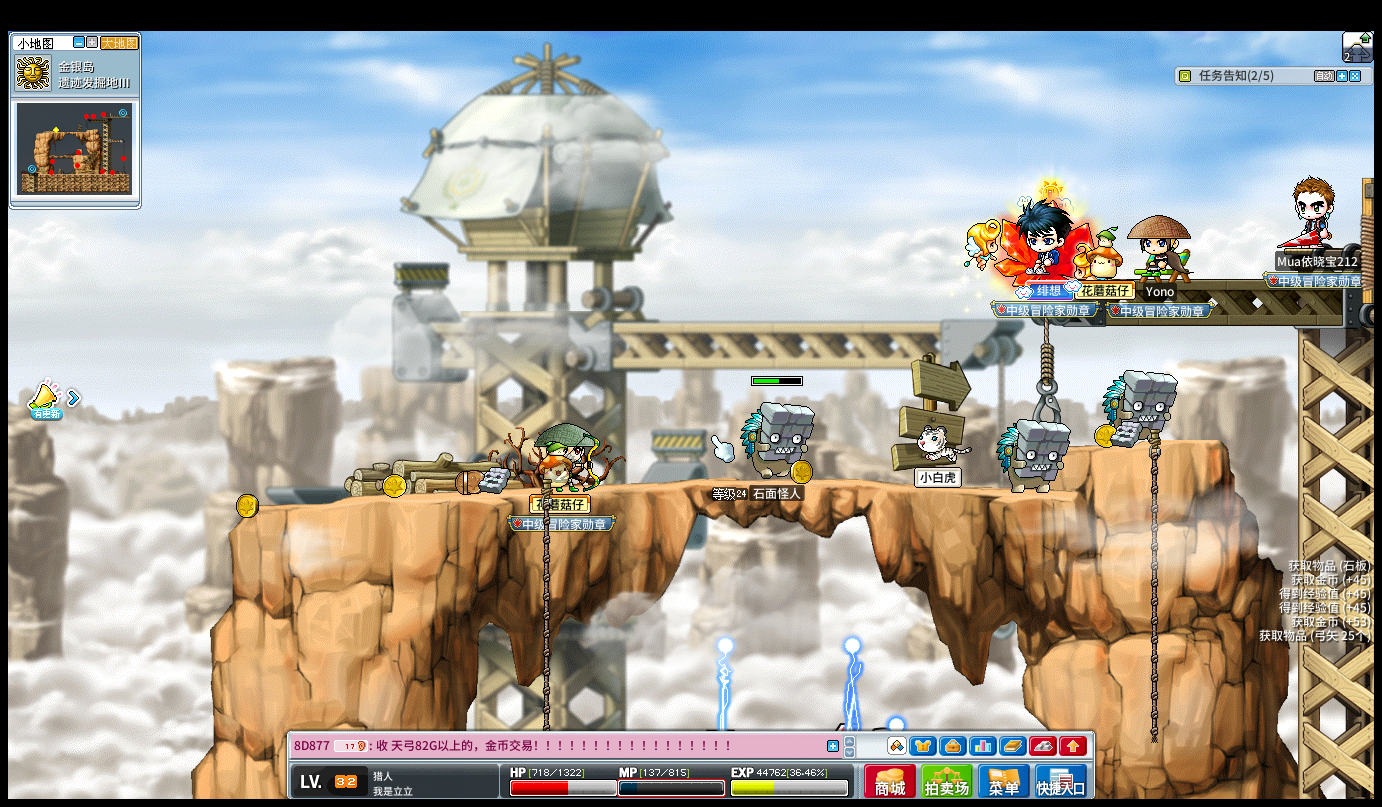floor: (224, 473, 1121, 499), (1092, 435, 1225, 451)
monster: (1101, 369, 1177, 448), (740, 402, 814, 480), (997, 418, 1070, 495)
rope: (1145, 425, 1161, 748), (539, 480, 551, 691)
